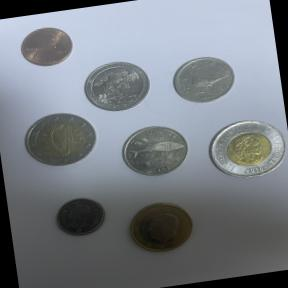coin: (199, 112, 288, 188), (117, 192, 206, 263), (19, 106, 102, 174), (115, 120, 197, 182), (78, 54, 156, 118), (10, 18, 83, 76), (48, 188, 114, 243)
